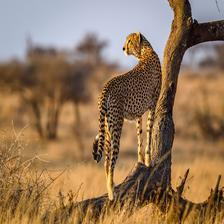Cheetah: (90, 30, 162, 206)
